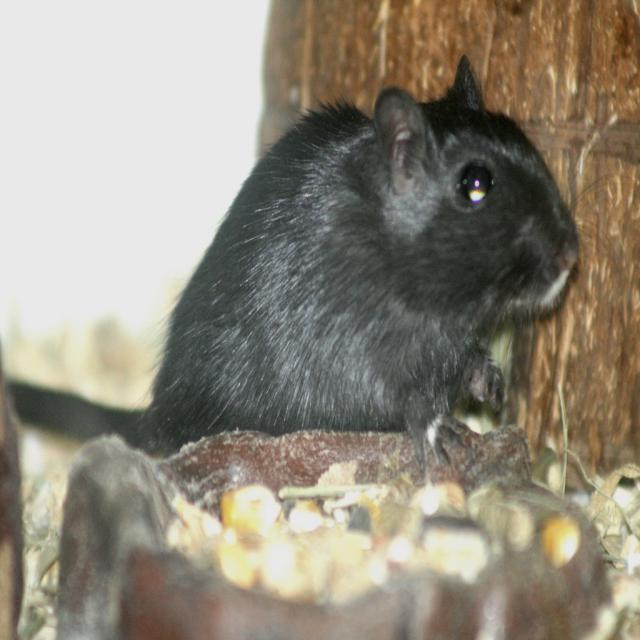rat: (12, 58, 586, 450)
